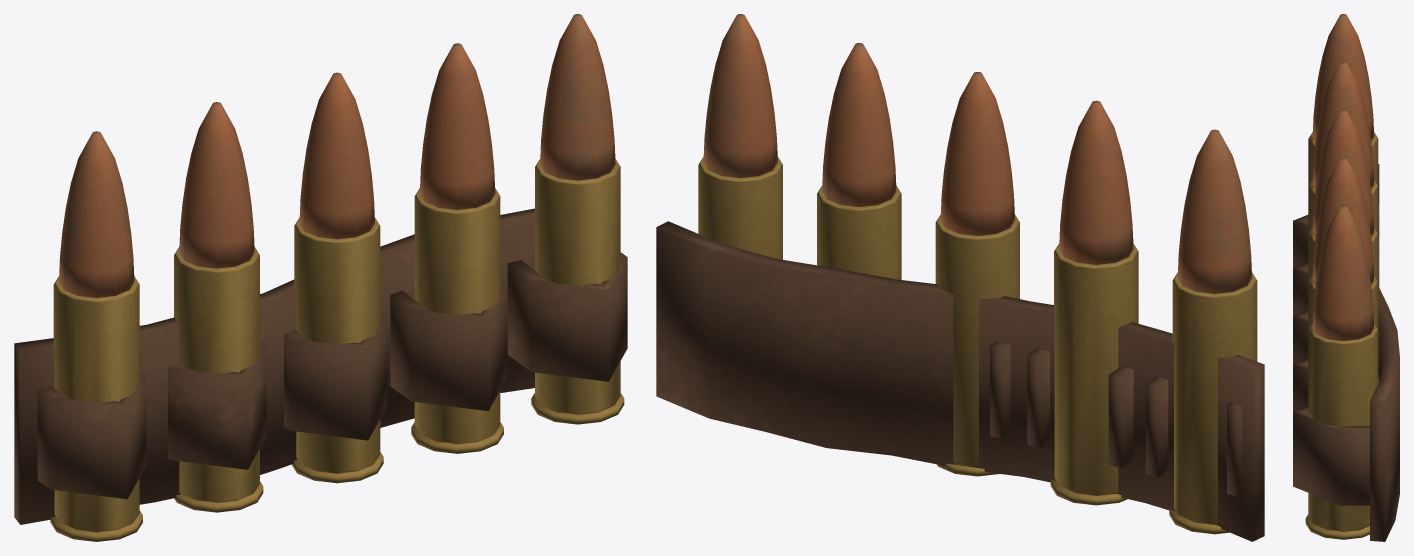
File: prop_ammo_heavy_01.gltf
The picture shows the model from 3 angles, left to right: view 1: azimuth 30°, elevation 25°; view 2: azimuth 150°, elevation 25°; view 3: azimuth 270°, elevation 25°; orthographic projection. The views are drawn at different scales.
Parts seen in each view (by area): view 1: prop_ammo_heavy_01_item_atlas_01; view 2: prop_ammo_heavy_01_item_atlas_01; view 3: prop_ammo_heavy_01_item_atlas_01.
Boxes of the visible parts, left/top/right/bottom form: prop_ammo_heavy_01_item_atlas_01: left=14, top=14, right=627, bottom=541; prop_ammo_heavy_01_item_atlas_01: left=656, top=14, right=1264, bottom=541; prop_ammo_heavy_01_item_atlas_01: left=1293, top=14, right=1399, bottom=541.
Size of the model in its own units: 0.1106 by 0.068 by 0.0208.
Materials: 1 (1 with a texture image).
